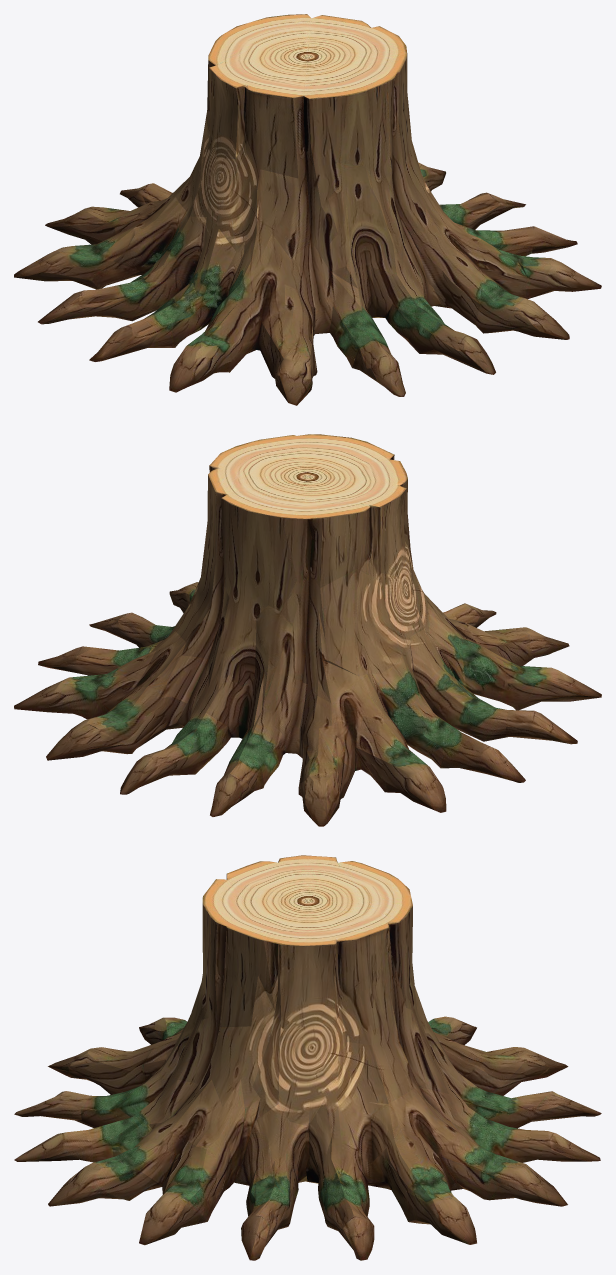
File: Stump.glb
3 renders of one model, top to bottom at view 1: azimuth 30°, elevation 25°; view 2: azimuth 150°, elevation 25°; view 3: azimuth 270°, elevation 25°, orthographic. The views are drawn at different scales.
Bounding box in the file's own units: 1.31 × 0.6 × 1.31.
Materials: 1 (1 with a texture image).
